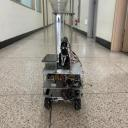cart: (41, 58, 85, 110)
